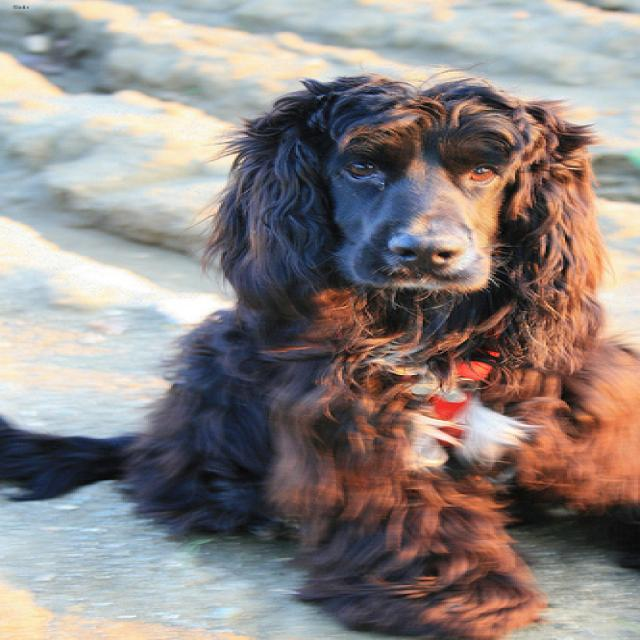dog-english_cocker_spaniel: (2, 61, 636, 637)
